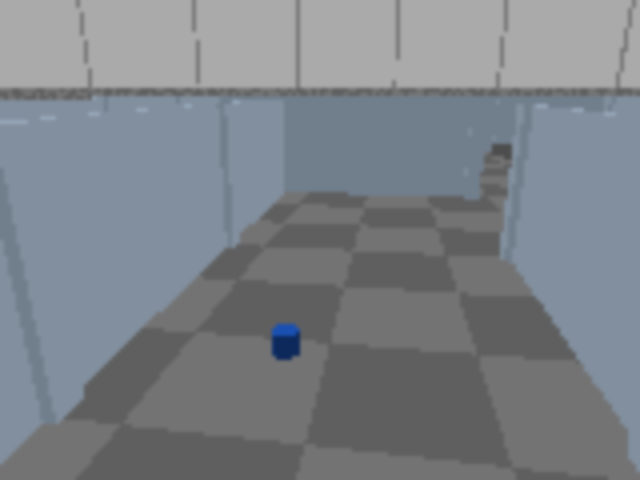puck: (271, 323, 300, 359)
